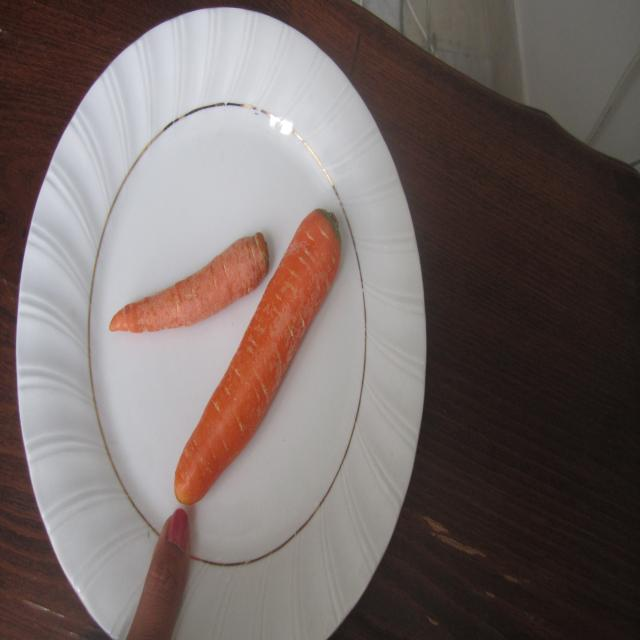carrot: (110, 202, 352, 506)
